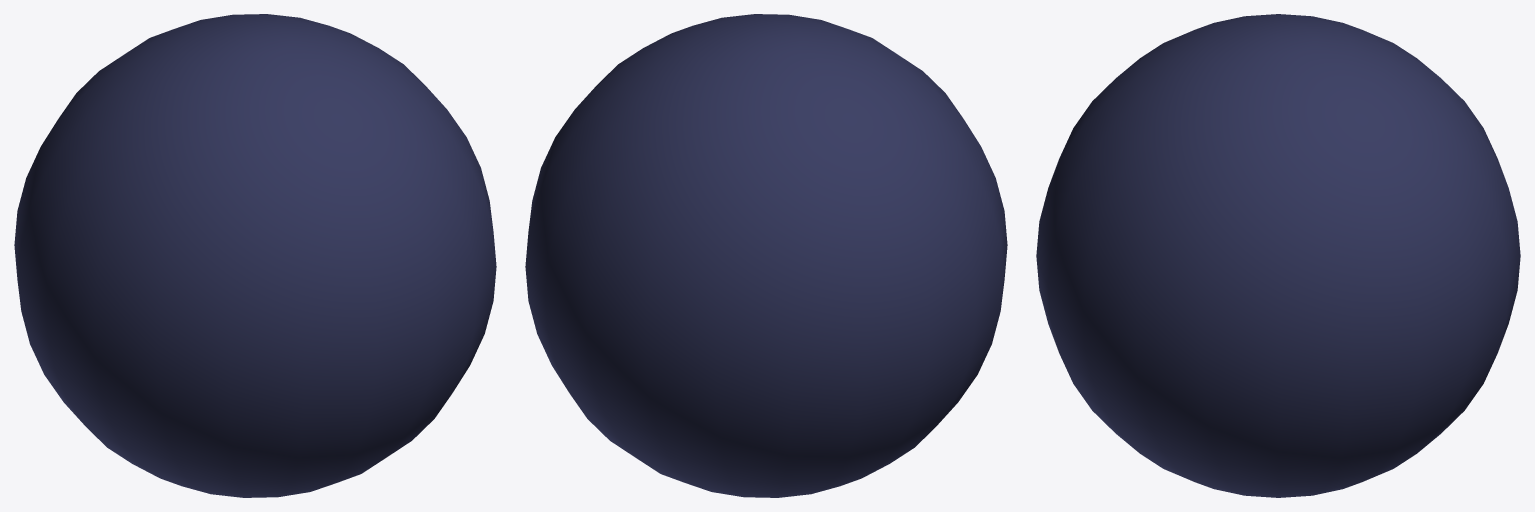
Rendered from Star.fbx.
3 views of the same model, side by side, from view 1: azimuth 30°, elevation 25°; view 2: azimuth 150°, elevation 25°; view 3: azimuth 270°, elevation 25° (orthographic).
Visible parts, largest first — view 1: outshell; view 2: outshell; view 3: outshell.
Boxes of the visible parts, <box> form: outshell: <box>14,14,496,497</box>; outshell: <box>525,14,1007,497</box>; outshell: <box>1036,14,1520,497</box>.
Size of the model in its own units: 6.02 by 6.02 by 6.02.
Materials: 1 (1 with a texture image).
